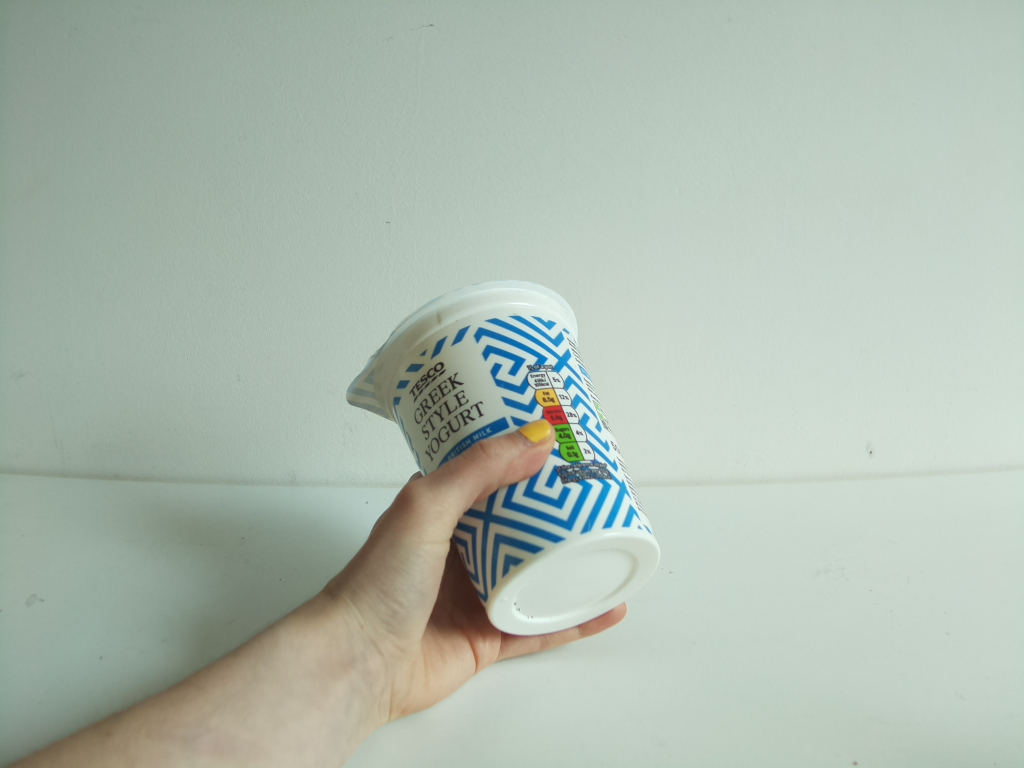yogurt: (340, 277, 666, 638)
